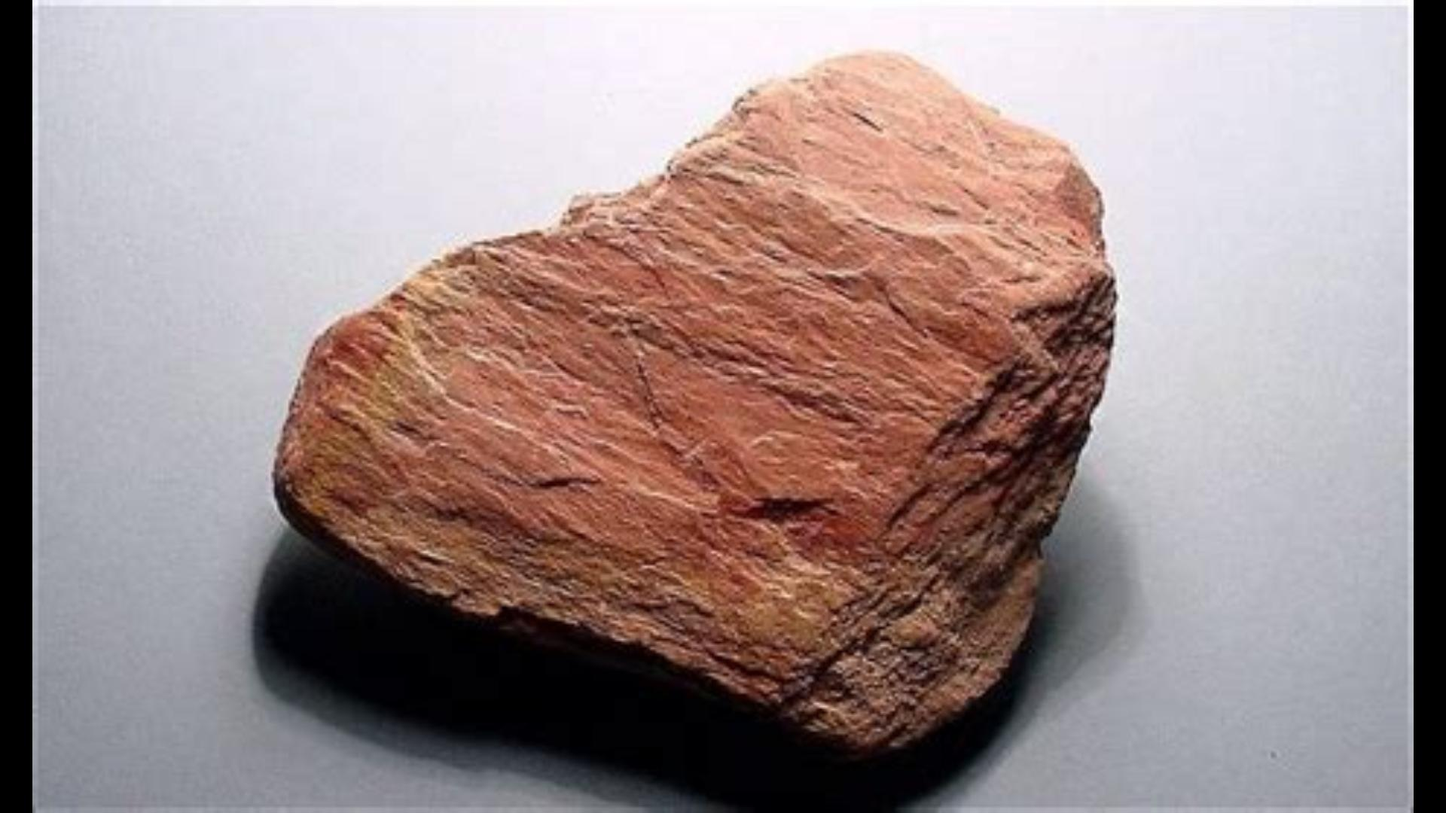rock: (274, 55, 1108, 752)
